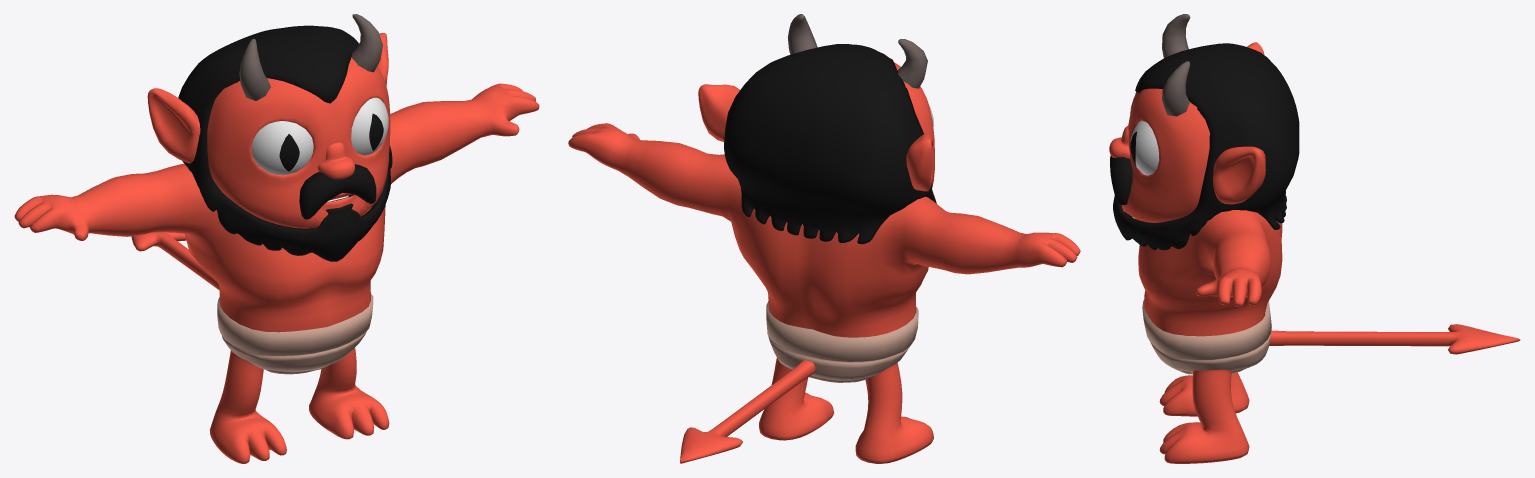
The model's file is tio1Placeholder.fbx.
The picture shows the model from 3 angles, left to right: view 1: azimuth 30°, elevation 25°; view 2: azimuth 150°, elevation 25°; view 3: azimuth 270°, elevation 25°; orthographic projection. The views are drawn at different scales.
Visible parts, largest first — view 1: cuerpoUV, CabezaUV, peloUV, TraposUV, OjosUV, cuernosUV, BigoteUV, narizUV; view 2: cuerpoUV, peloUV, TraposUV, CabezaUV, cuernosUV; view 3: cuerpoUV, peloUV, CabezaUV, TraposUV, cuernosUV, OjosUV, BigoteUV, narizUV.
Boxes of the visible parts, left/top/right/bottom form: cuerpoUV: left=14, top=83, right=539, bottom=463; CabezaUV: left=147, top=33, right=390, bottom=228; peloUV: left=178, top=25, right=392, bottom=261; TraposUV: left=217, top=294, right=373, bottom=374; OjosUV: left=251, top=97, right=388, bottom=175; cuernosUV: left=239, top=14, right=382, bottom=100; BigoteUV: left=299, top=164, right=376, bottom=219; narizUV: left=318, top=142, right=354, bottom=179; cuerpoUV: left=568, top=123, right=1080, bottom=463; peloUV: left=724, top=44, right=936, bottom=244; TraposUV: left=766, top=301, right=918, bottom=382; CabezaUV: left=698, top=62, right=934, bottom=191; cuernosUV: left=787, top=14, right=927, bottom=88; cuerpoUV: left=1138, top=210, right=1520, bottom=463; peloUV: left=1113, top=43, right=1299, bottom=250; CabezaUV: left=1121, top=42, right=1265, bottom=222; TraposUV: left=1142, top=299, right=1271, bottom=374; cuernosUV: left=1162, top=14, right=1190, bottom=116; OjosUV: left=1130, top=97, right=1159, bottom=175; BigoteUV: left=1110, top=155, right=1132, bottom=204; narizUV: left=1109, top=126, right=1129, bottom=158.
Size of the model in its own units: 289 by 221 by 211.
